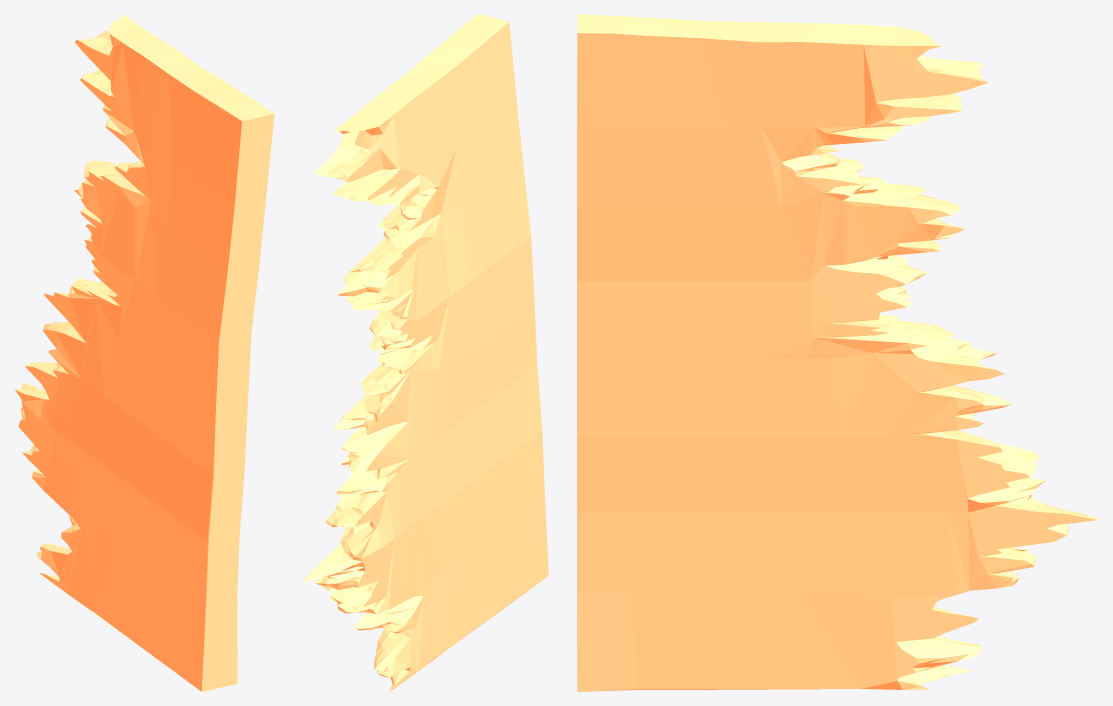
File: SM_Wall_Officer02.fbx
The picture shows the model from 3 angles, left to right: view 1: azimuth 30°, elevation 25°; view 2: azimuth 150°, elevation 25°; view 3: azimuth 270°, elevation 25°; orthographic projection. The views are drawn at different scales.
Visible parts, largest first — view 1: SM_Wall_Officer02_LOD0; view 2: SM_Wall_Officer02_LOD0; view 3: SM_Wall_Officer02_LOD0.
Part boxes in pixels (box(x1,y1,x2,y2)): SM_Wall_Officer02_LOD0: box(14, 14, 274, 691); SM_Wall_Officer02_LOD0: box(303, 14, 548, 691); SM_Wall_Officer02_LOD0: box(577, 14, 1098, 691).
Bounding box in the file's own units: 44.57 × 227 × 327.
